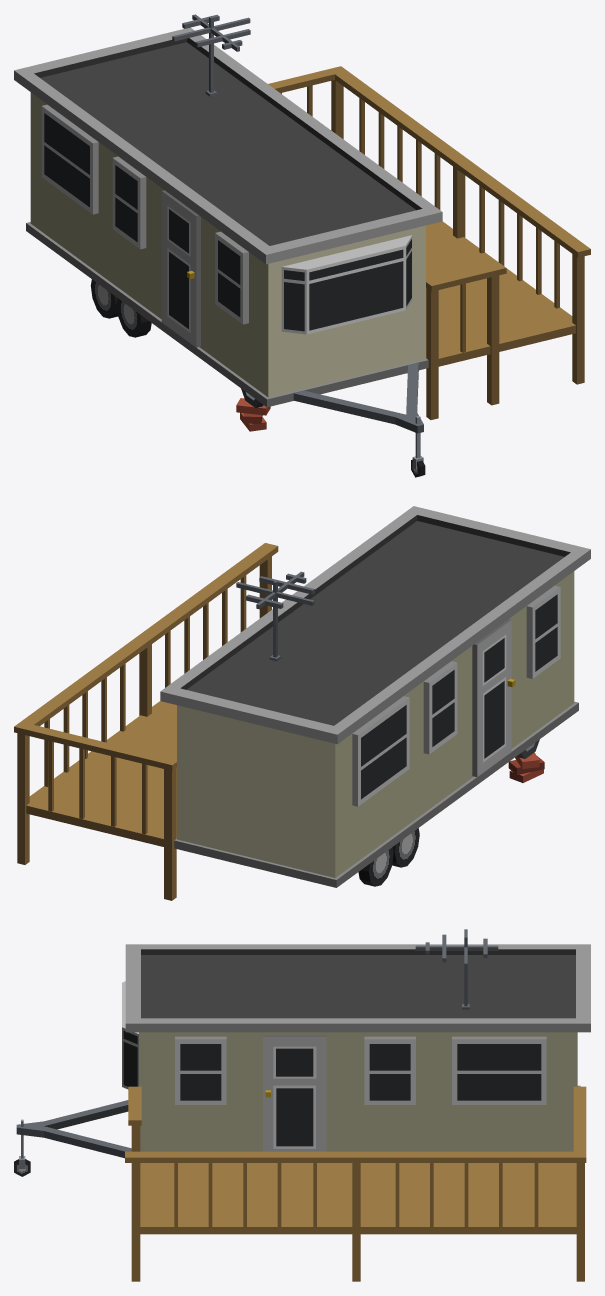
Rendered from SA_Bld_Trailer_01.gltf.
The picture shows the model from 3 angles, top to bottom: view 1: azimuth 30°, elevation 25°; view 2: azimuth 150°, elevation 25°; view 3: azimuth 270°, elevation 25°; orthographic projection. The views are drawn at different scales.
Visible parts, largest first — view 1: SA_Bld_Trailer_01; view 2: SA_Bld_Trailer_01; view 3: SA_Bld_Trailer_01.
Boxes of the visible parts, <box> form: SA_Bld_Trailer_01: <box>14,14,590,477</box>; SA_Bld_Trailer_01: <box>14,506,590,900</box>; SA_Bld_Trailer_01: <box>14,929,590,1281</box>.
Bounding box in the file's own units: 8.86 × 7.29 × 14.77.
Materials: 1 (1 with a texture image).
